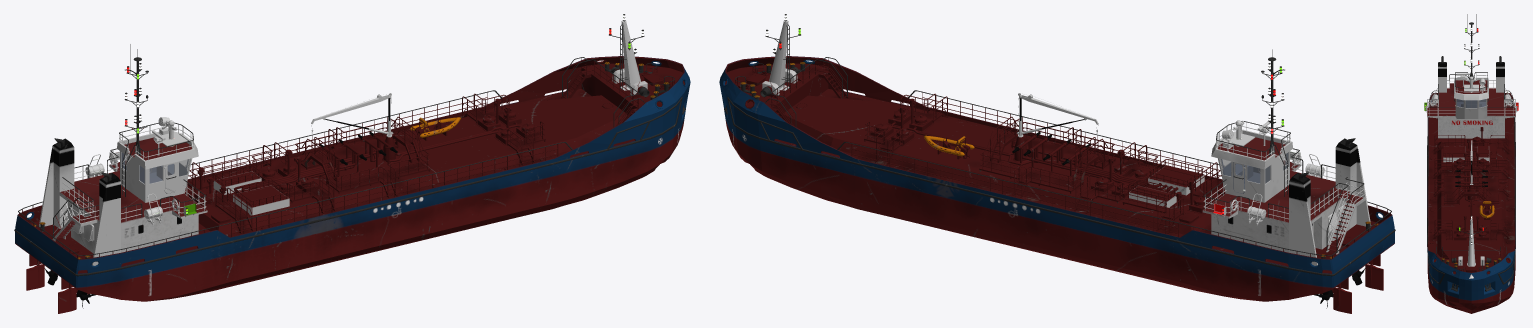
Rendered from TANKER_800_Blue.fbx.
The picture shows the model from 3 angles, left to right: view 1: azimuth 30°, elevation 25°; view 2: azimuth 150°, elevation 25°; view 3: azimuth 270°, elevation 25°; orthographic projection. The views are drawn at different scales.
Visible parts, largest first — view 1: Hool_geo, Deck_geo, cabin_geo, Boat, Gls_ass_geo; view 2: Hool_geo, Deck_geo, cabin_geo, Boat, Gls_ass_geo; view 3: Deck_geo, cabin_geo, Hool_geo, Gls_ass_geo, Boat.
Boxes of the visible parts, x1,y1,x2,y2 form: Hool_geo: (14,56,690,313); Deck_geo: (18,14,684,273); cabin_geo: (39,44,207,265); Boat: (410,117,460,140); Gls_ass_geo: (121,152,190,183); Hool_geo: (719,56,1395,313); Deck_geo: (725,14,1391,273); cabin_geo: (1202,49,1371,265); Boat: (924,135,974,159); Gls_ass_geo: (1219,152,1288,183); Deck_geo: (1427,90,1515,274); cabin_geo: (1424,14,1518,138); Hool_geo: (1427,93,1515,313); Gls_ass_geo: (1456,82,1486,107); Boat: (1479,201,1494,219).
Bounding box in the file's own units: 4666 × 1627 × 958.
